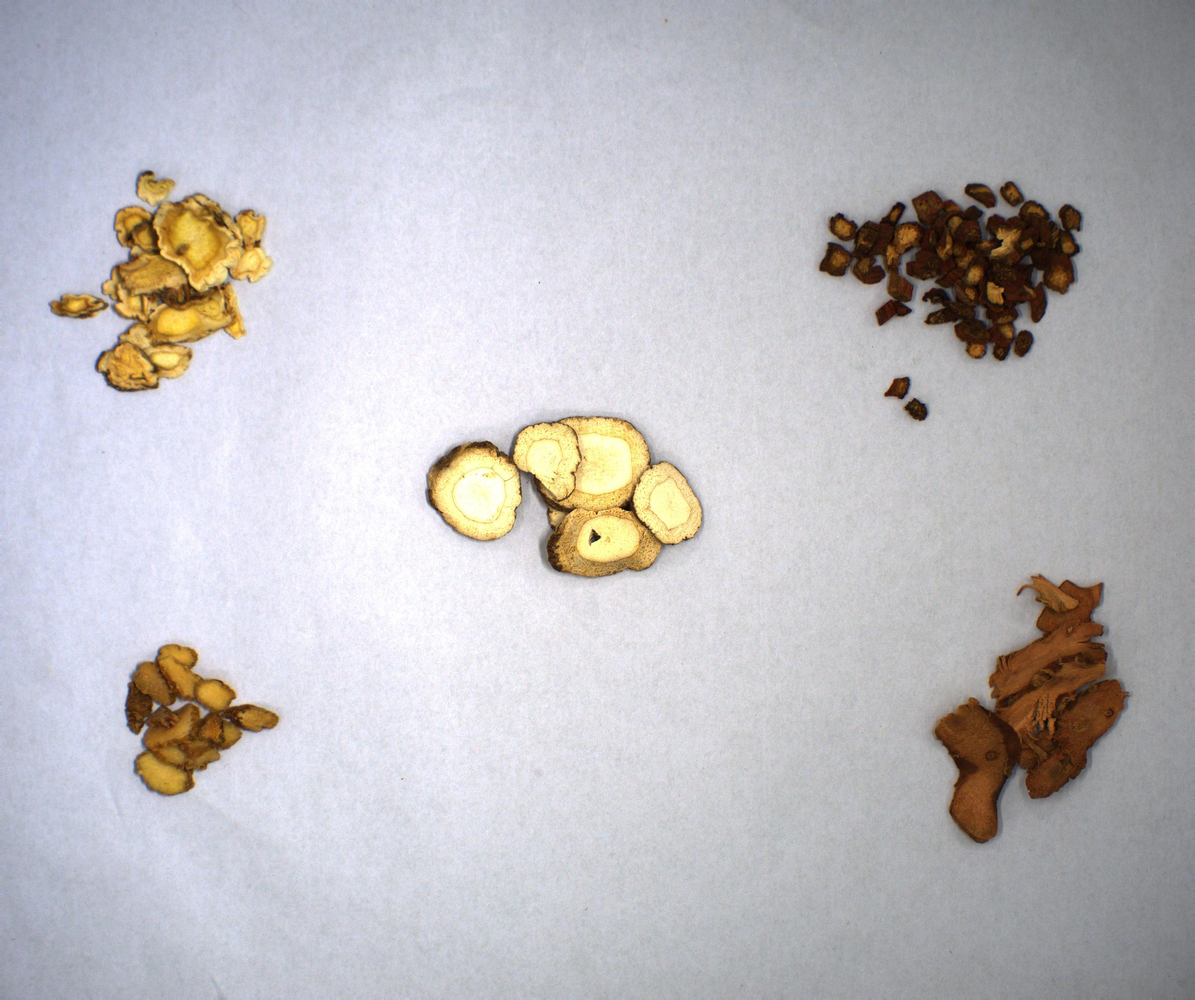baizhi: (414, 359, 777, 671)
danshen: (780, 135, 1144, 447)
gaoliangjiang: (926, 519, 1141, 895)
jiegeng: (37, 109, 305, 457)
yuzhu: (82, 571, 341, 834)
